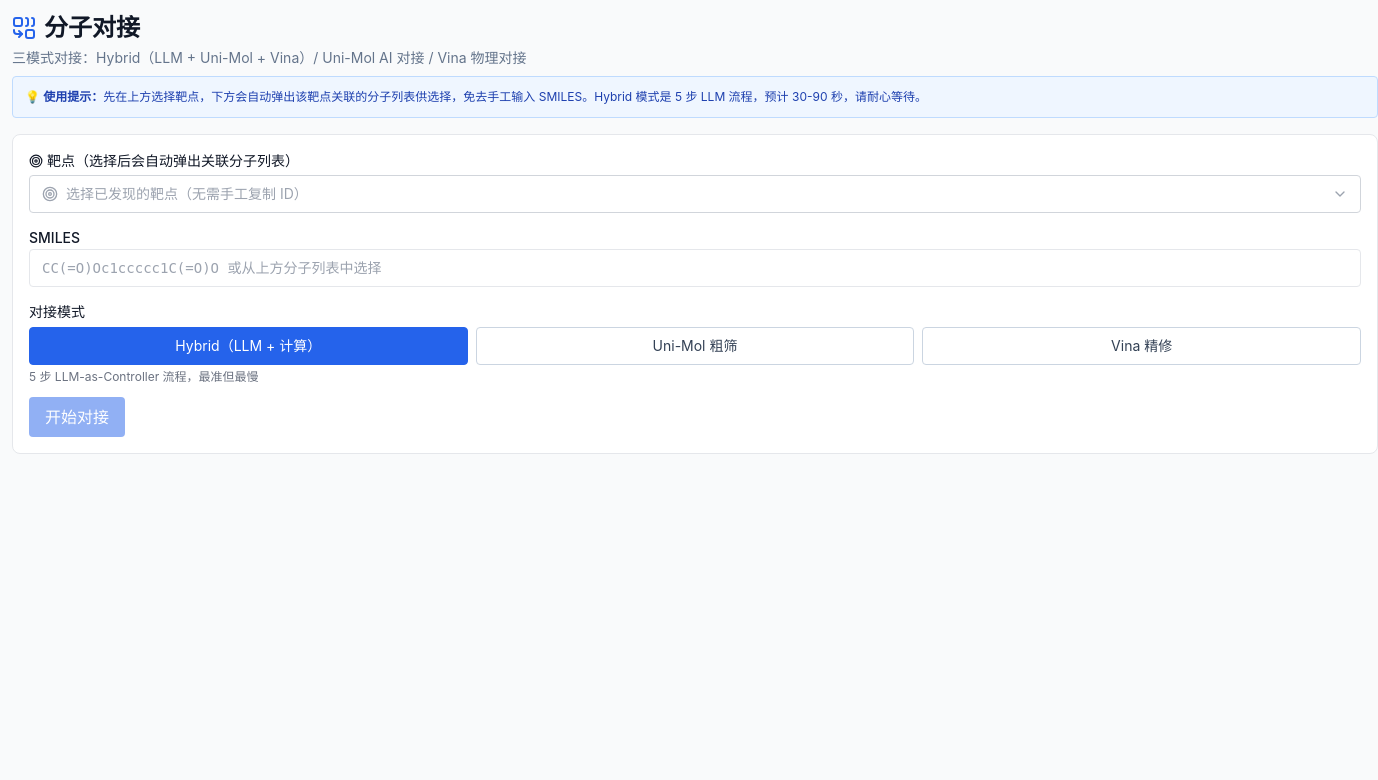
Scenario: DockingPage › API 失败时显示错误提示
Click the button "Uni-Mol 粗筛". click: (695, 346)
box: [476,327,914,365]
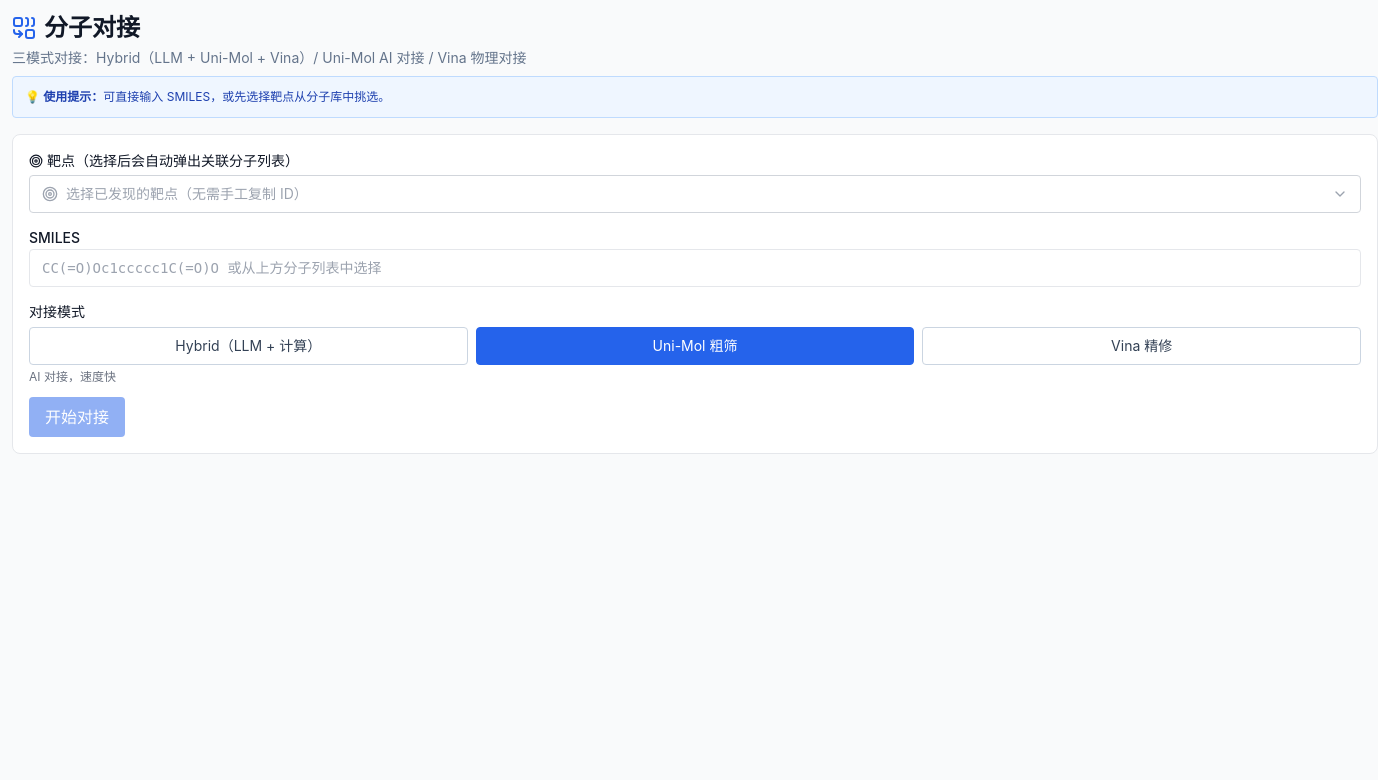
Type "CCO" into the field with placeholder "CC(=O)Oc1ccccc1C(=O)O 或从上方分子列表中选择". click: (695, 268)
box: [29,249,1361,287]
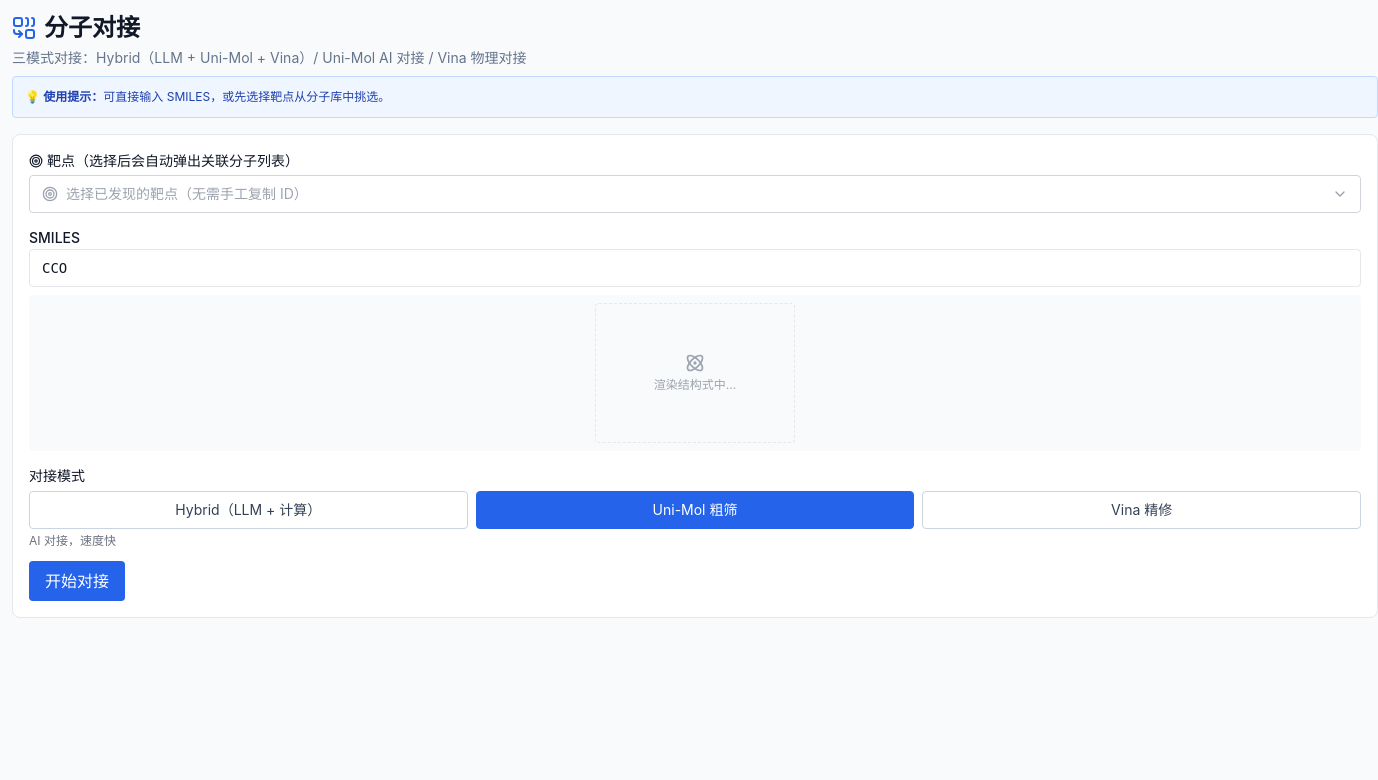
Click the button "开始对接". click: (77, 581)
box: [29,561,125,601]
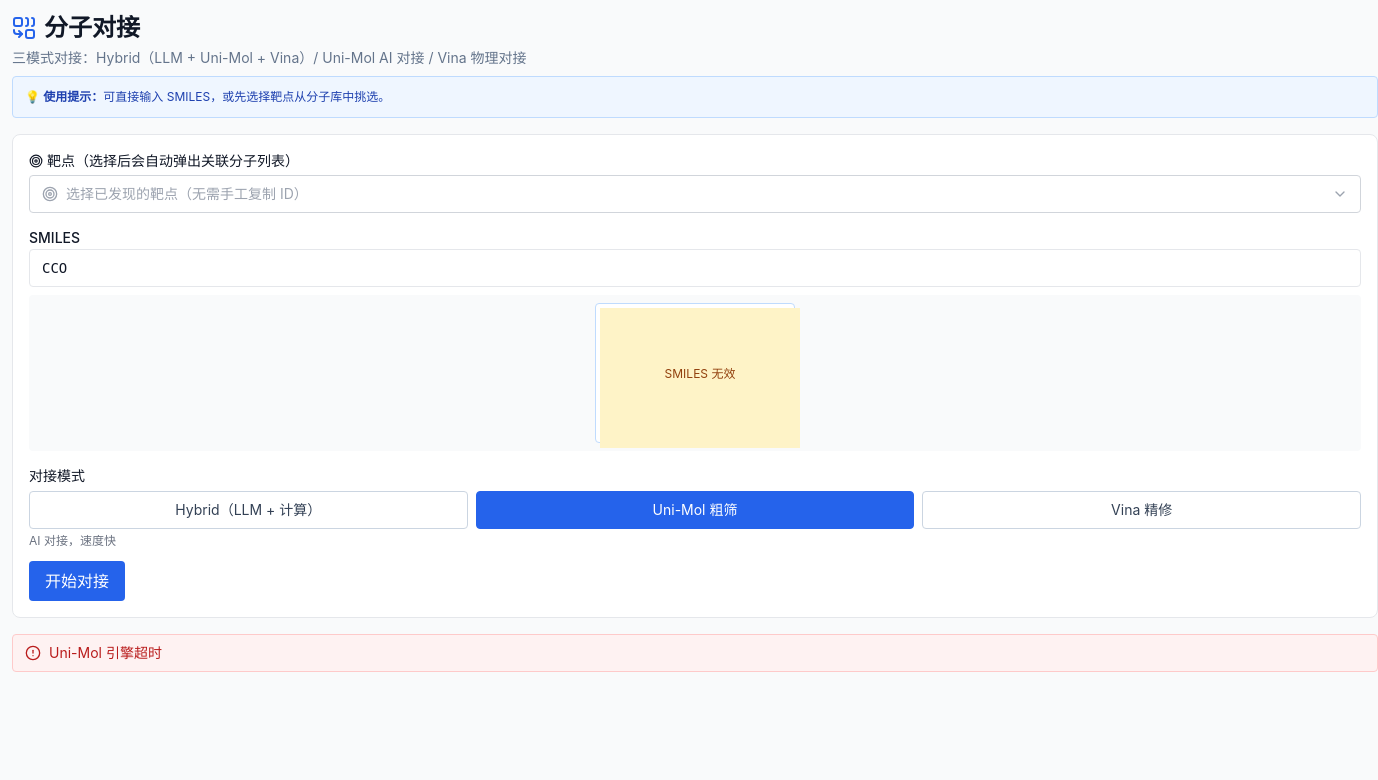
Result: the text "Uni-Mol 引擎超时" is shown at [49,643,162,663]
